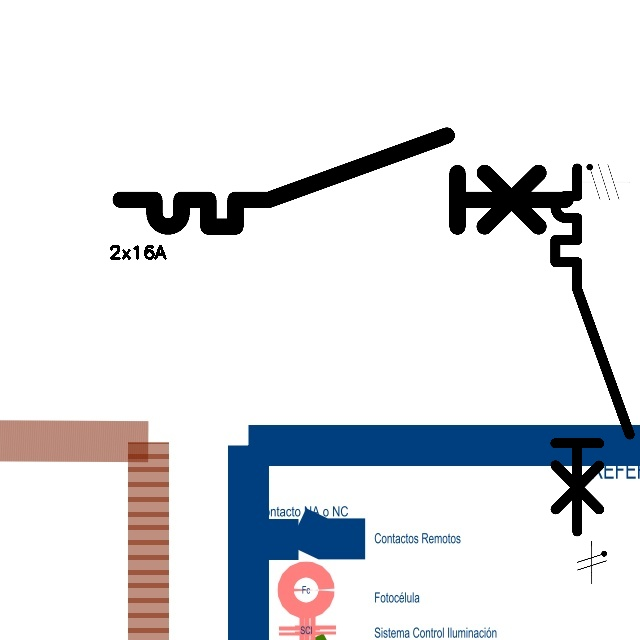interruptor_termomagnetico: (109, 124, 576, 238), (546, 159, 639, 540)
